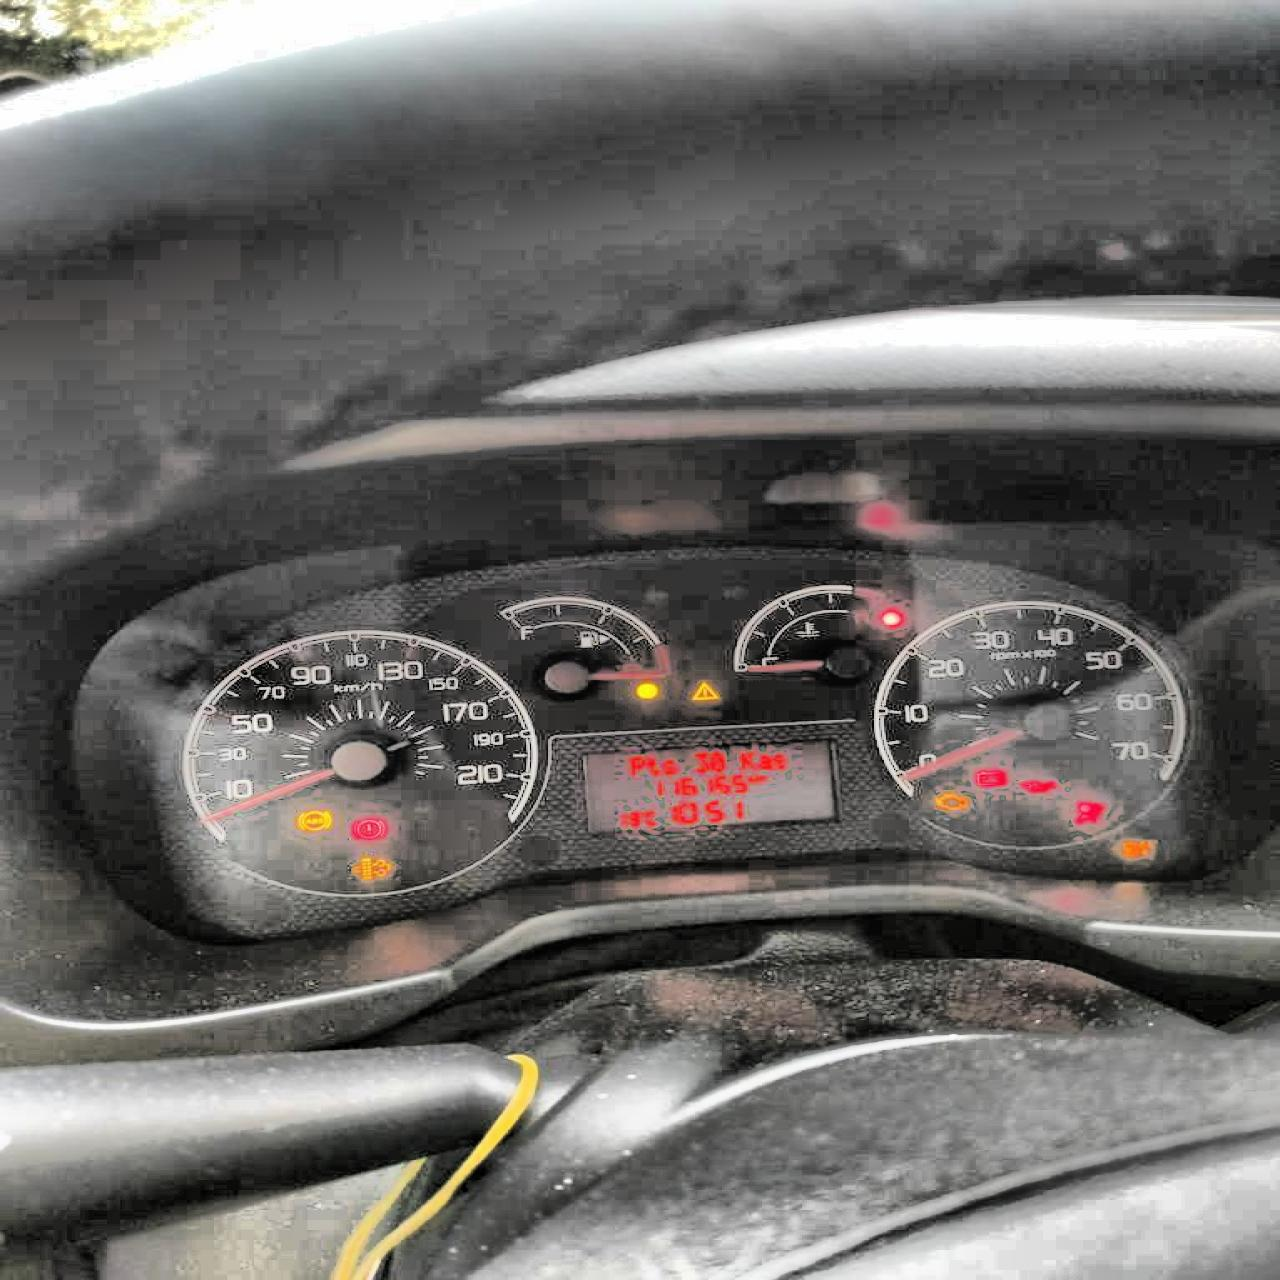0: (707, 749, 726, 772), (676, 802, 695, 824)
1: (734, 798, 743, 822), (617, 808, 626, 830), (706, 775, 714, 795), (655, 777, 663, 797), (672, 777, 679, 797), (670, 803, 676, 824)
3: (693, 750, 707, 774), (628, 809, 639, 828)
5: (703, 799, 723, 822), (730, 772, 747, 792)
6: (714, 774, 729, 794), (680, 776, 695, 795)
X: (735, 748, 754, 770), (628, 754, 644, 777), (645, 756, 660, 777), (641, 809, 659, 826), (770, 750, 787, 769), (660, 757, 676, 775), (756, 753, 770, 769), (756, 774, 765, 782), (747, 772, 754, 782)
odometer: (580, 738, 844, 835)
